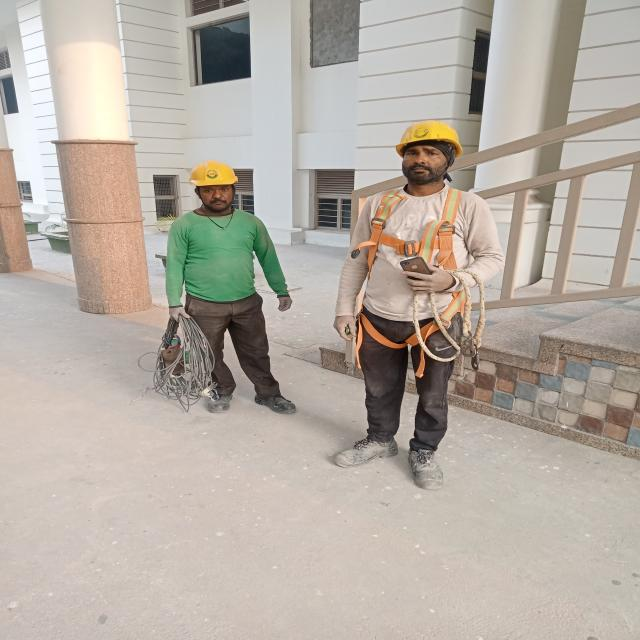no jacket: (319, 111, 487, 502), (152, 163, 306, 427)
